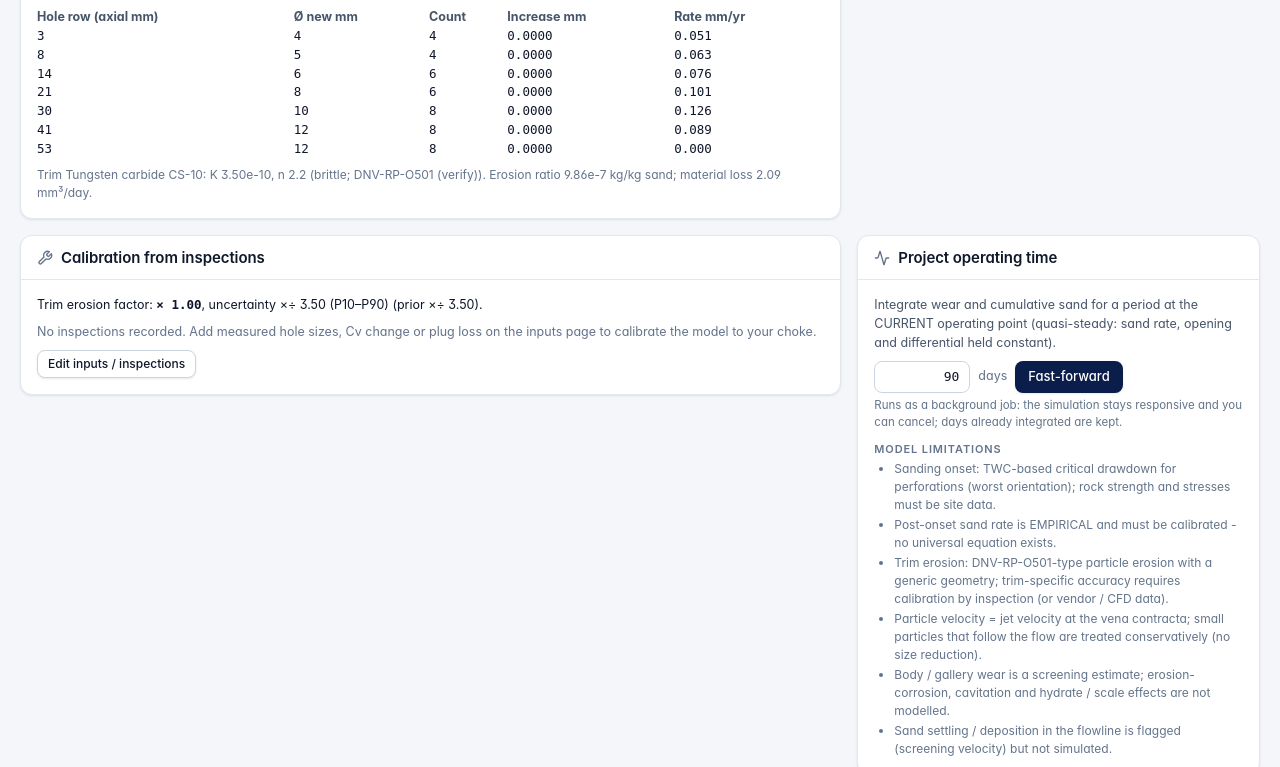
Choke health page › fast-forwards operating time and links to the inputs
Later steps or results of the test are not shown.
(page scrolled)
Step 1. Click the button with test id "fast-forward" → point(1069, 377), box [1015, 361, 1123, 393]
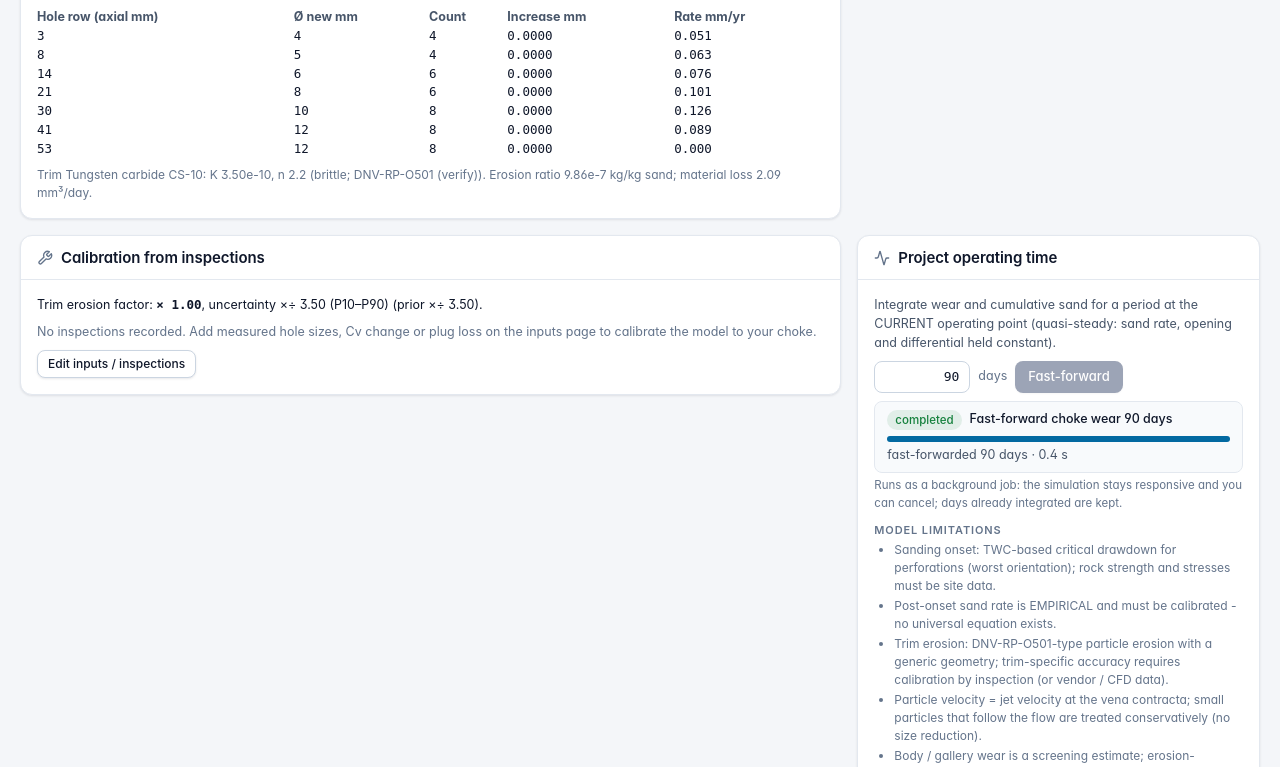
Expected: the text with test id "job-state" reads "completed", [895, 413, 954, 427]
Expected: the text with test id "job-message" shows "fast-forwarded 90 days", [887, 447, 1028, 462]
